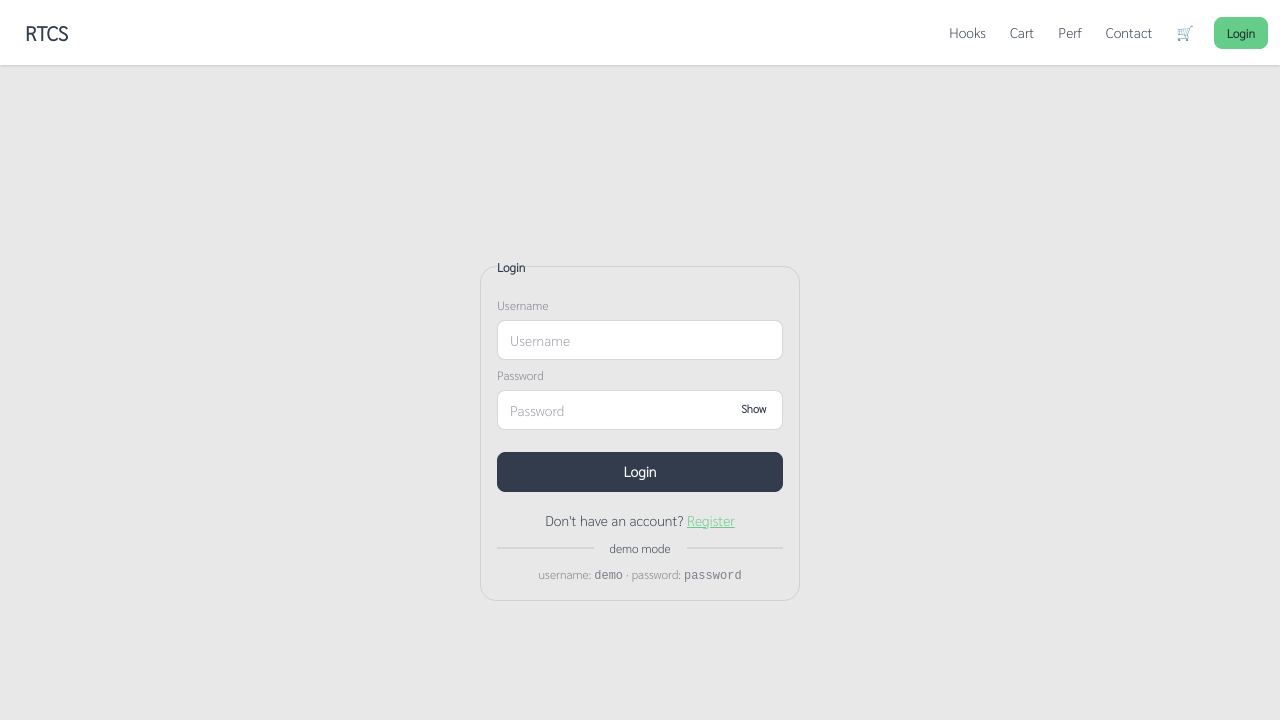
LoginPage › blocks submit and shows field errors for empty fields
This screenshot has width=1280, height=720.
Click the button "Login" at (640, 472), box [497,452,783,492]
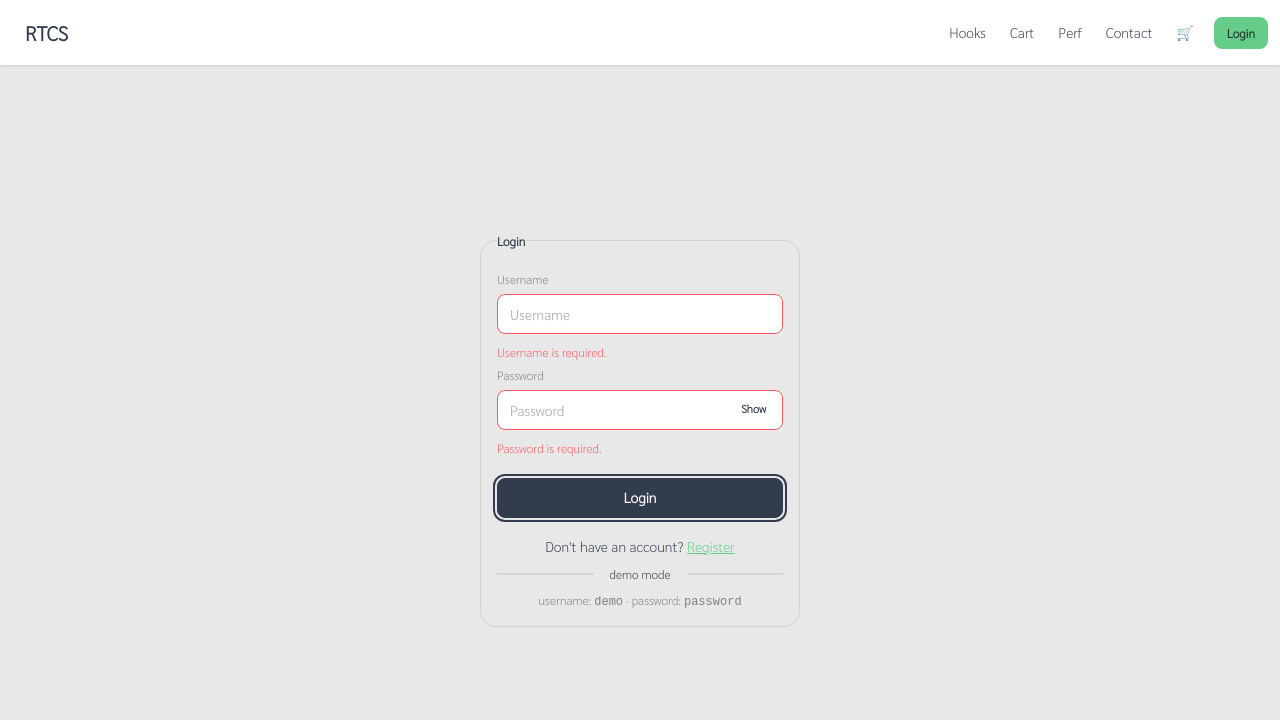
Check: the text "Username is required." is shown, box [497,344,606,360]
Check: the text "Password is required." is shown, box [497,440,602,456]
